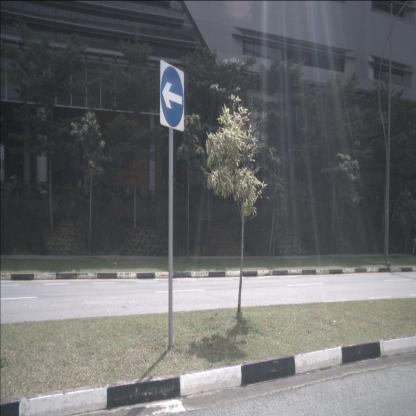human-pedestrian-adult: (412, 222, 416, 255)
